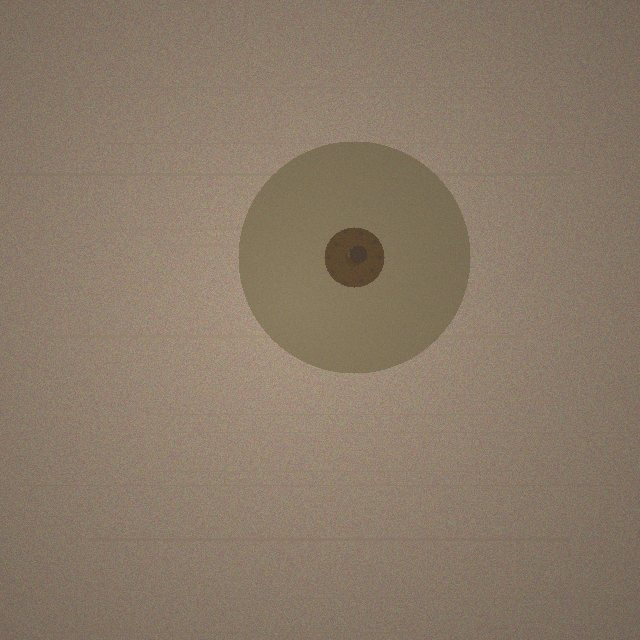cold_weld: (238, 141, 470, 373)
